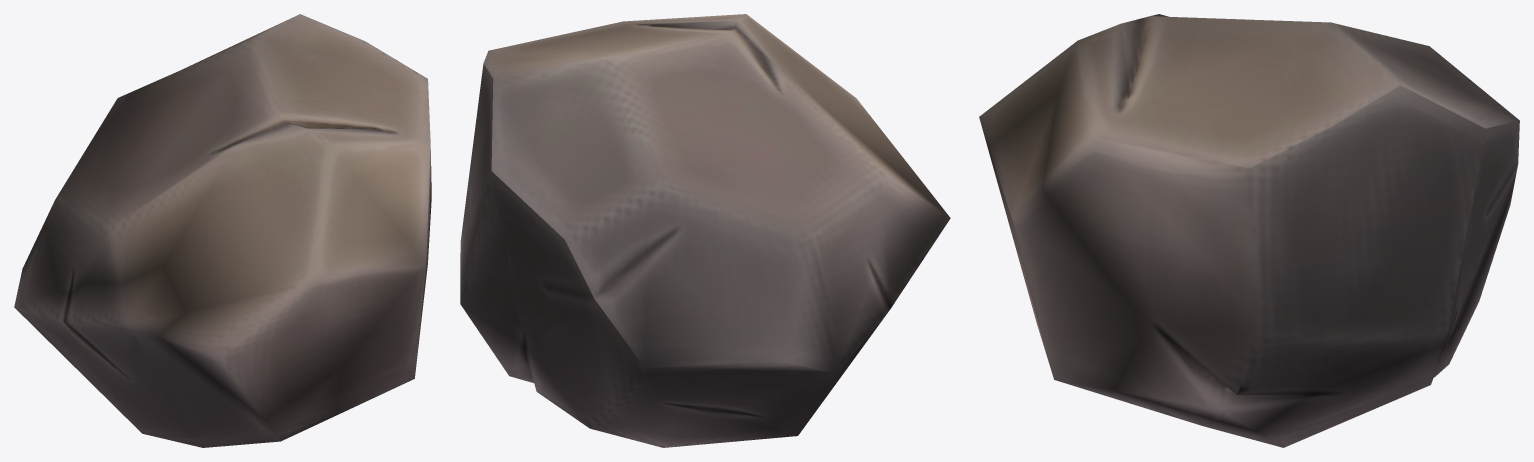
Rendered from Final rock2.fbx.
The picture shows the model from 3 angles, left to right: view 1: azimuth 30°, elevation 25°; view 2: azimuth 150°, elevation 25°; view 3: azimuth 270°, elevation 25°; orthographic projection. The views are drawn at different scales.
Visible parts, largest first — view 1: Rocks2_LOD0; view 2: Rocks2_LOD0; view 3: Rocks2_LOD0.
Boxes of the visible parts, x1,y1,x2,y2 form: Rocks2_LOD0: (14,14,431,447); Rocks2_LOD0: (460,14,950,447); Rocks2_LOD0: (979,14,1519,447).
Size of what is drawn, in the model's own units: 1.54 by 1.34 by 1.56.
1 material, 1 textured.
